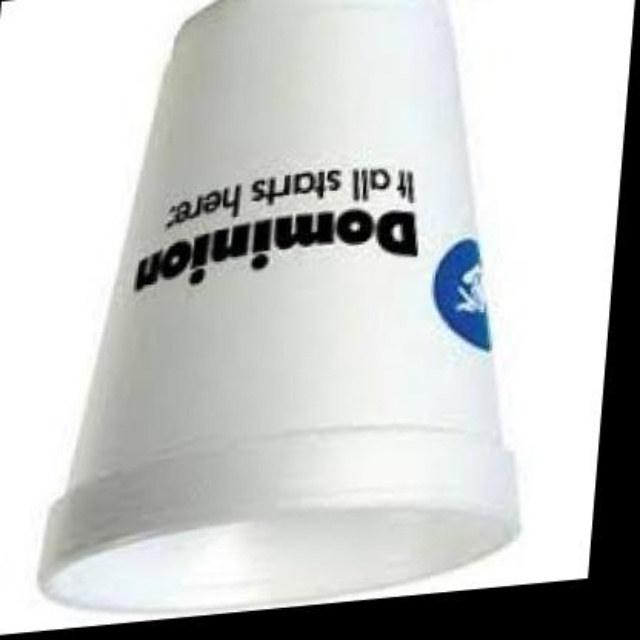trash: (40, 0, 515, 612)
